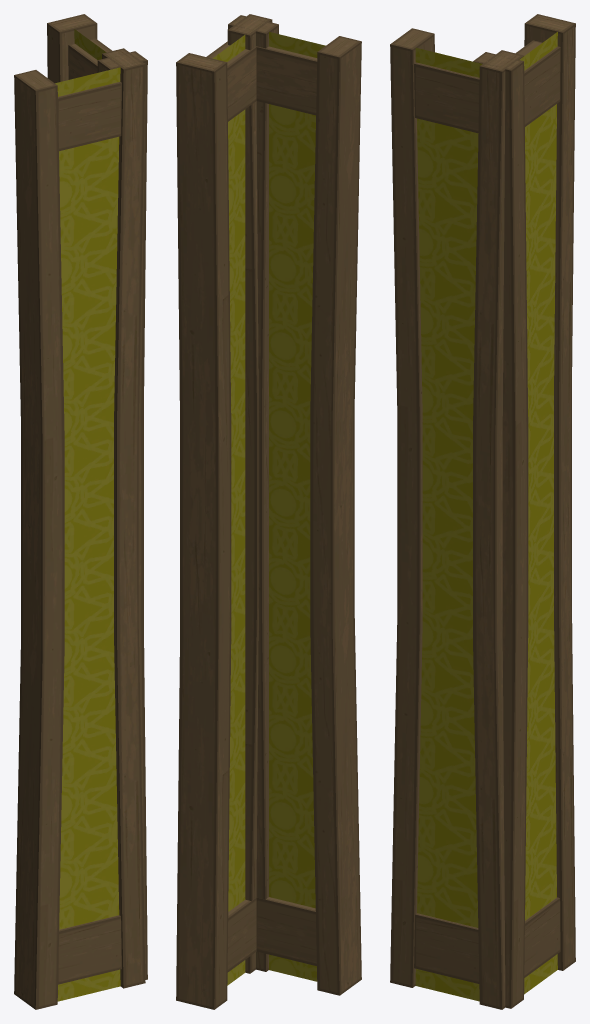
File: SM_building_wall_20.glb
The picture shows the model from 3 angles, left to right: view 1: azimuth 30°, elevation 25°; view 2: azimuth 150°, elevation 25°; view 3: azimuth 330°, elevation 25°; orthographic projection. The views are drawn at different scales.
Parts seen in each view (by area): view 1: SM_building_wall_20; view 2: SM_building_wall_20; view 3: SM_building_wall_20.
Part boxes in pixels (x1=…): SM_building_wall_20: x1=14, y1=14, x2=147, y2=1009; SM_building_wall_20: x1=176, y1=14, x2=361, y2=1009; SM_building_wall_20: x1=390, y1=14, x2=575, y2=1009.
Size of the model in its own units: 0.5254 by 4 by 0.5254.
Materials: 2 (2 with a texture image).
